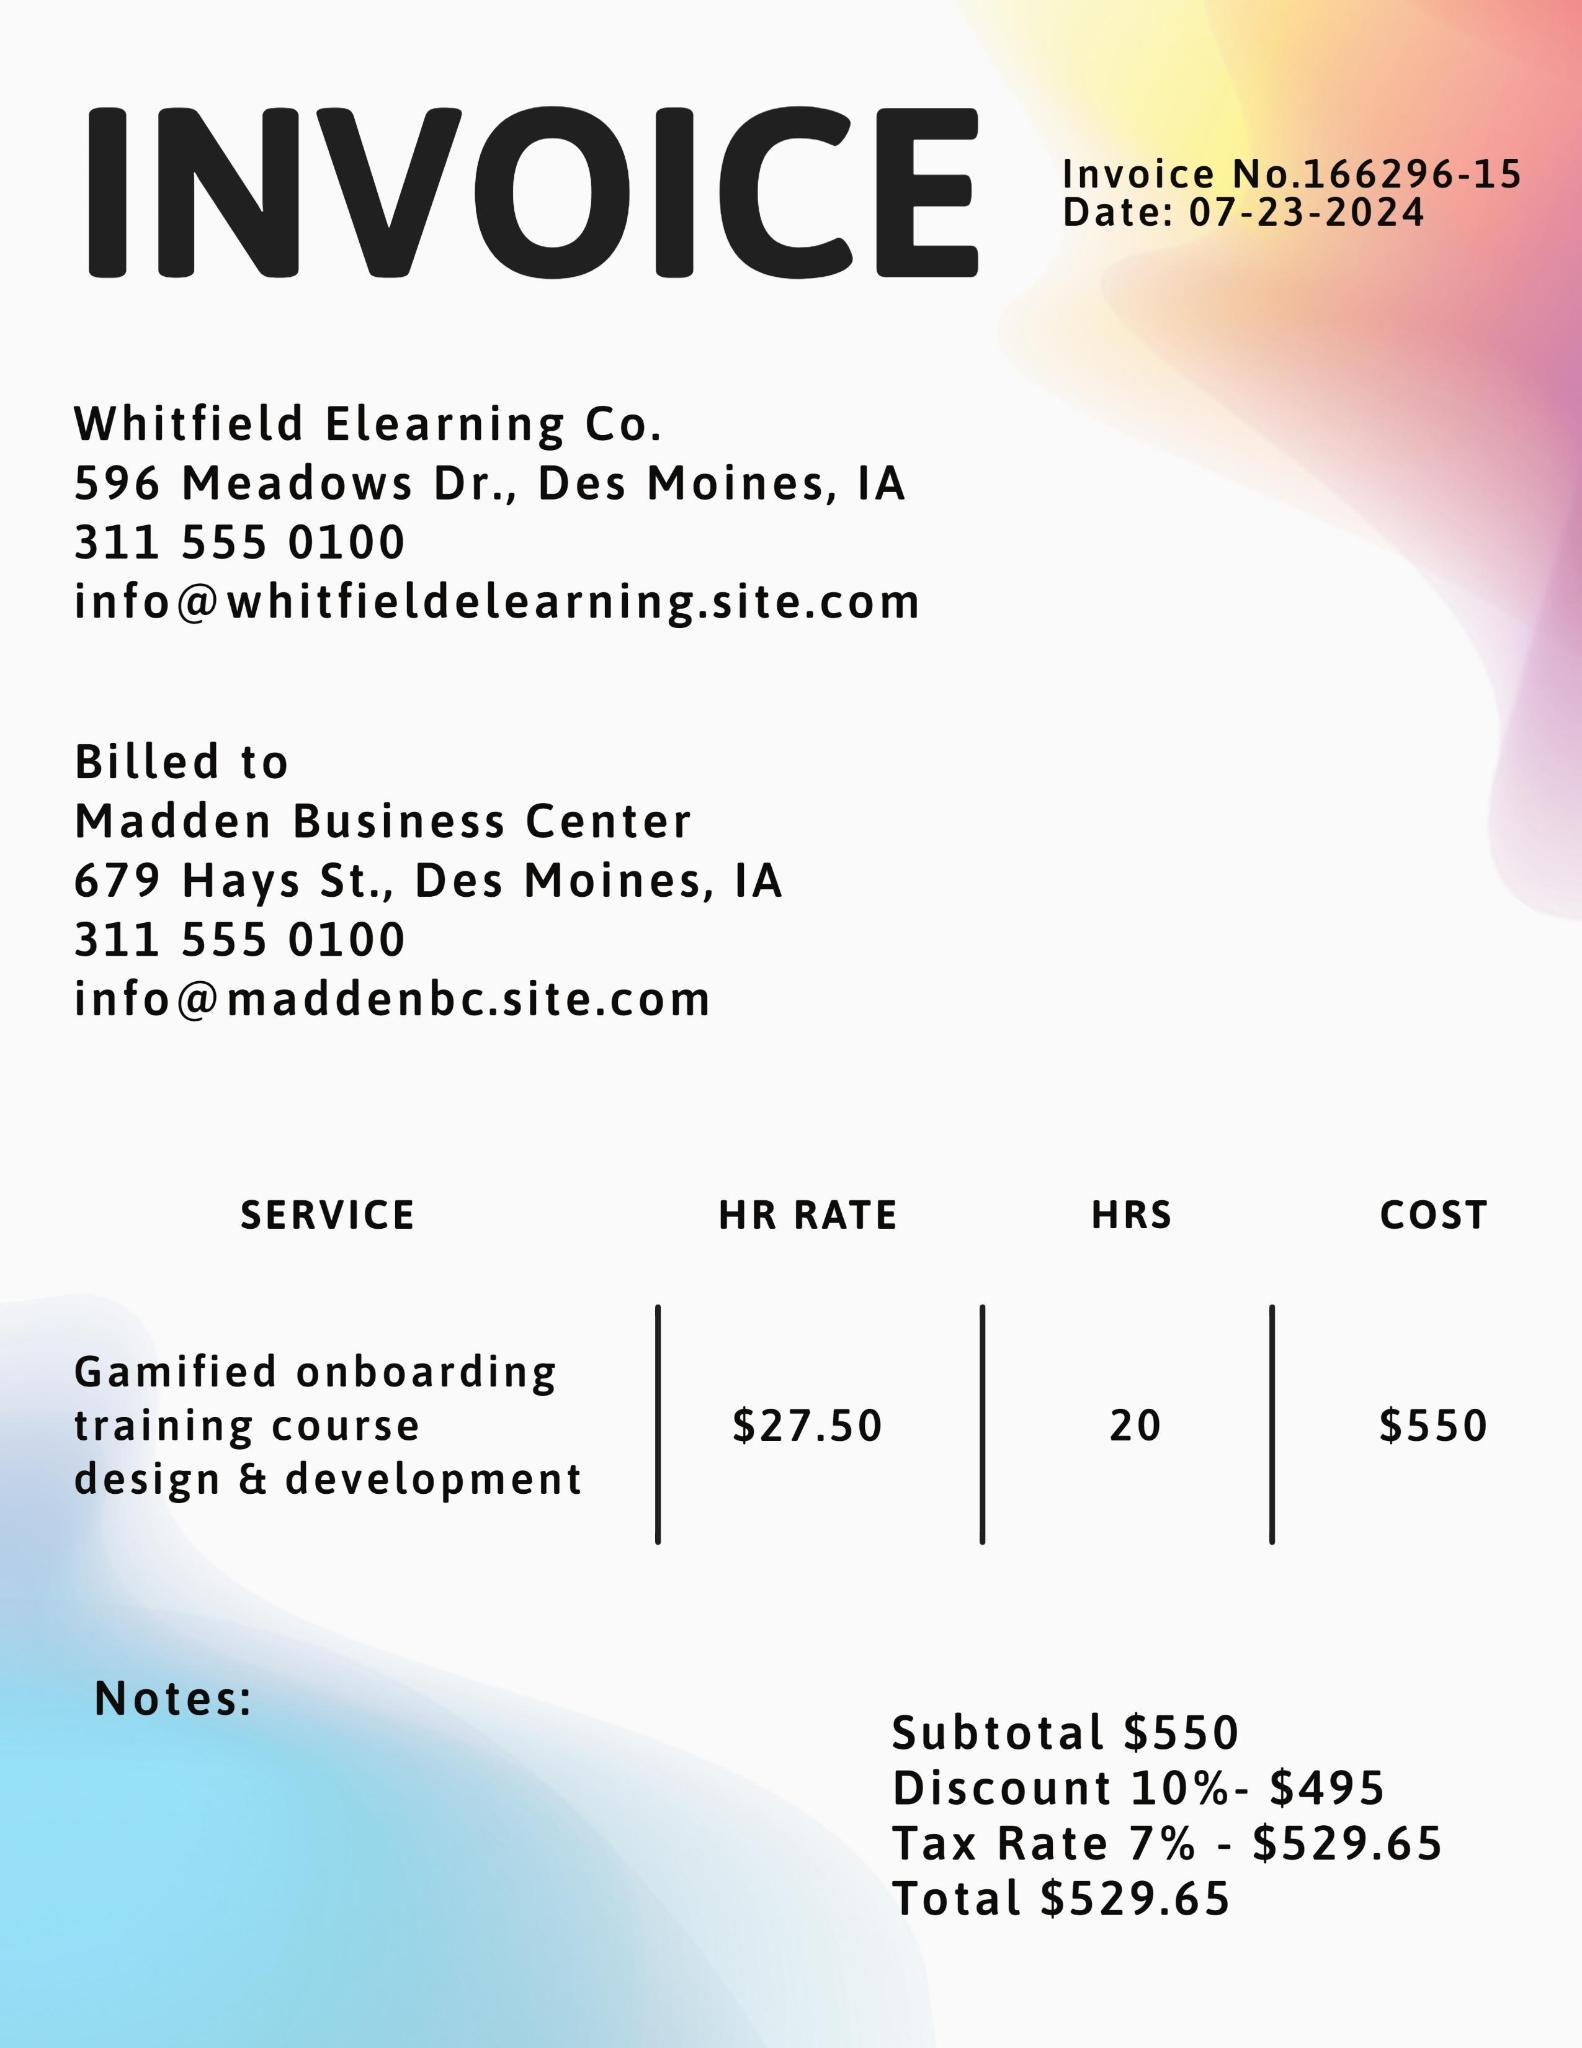ROI: (25, 1126, 1529, 1559), (32, 359, 998, 637), (48, 733, 870, 1050), (48, 71, 1001, 309), (856, 1683, 1453, 1969), (1033, 133, 1545, 260), (48, 1653, 314, 1747)
